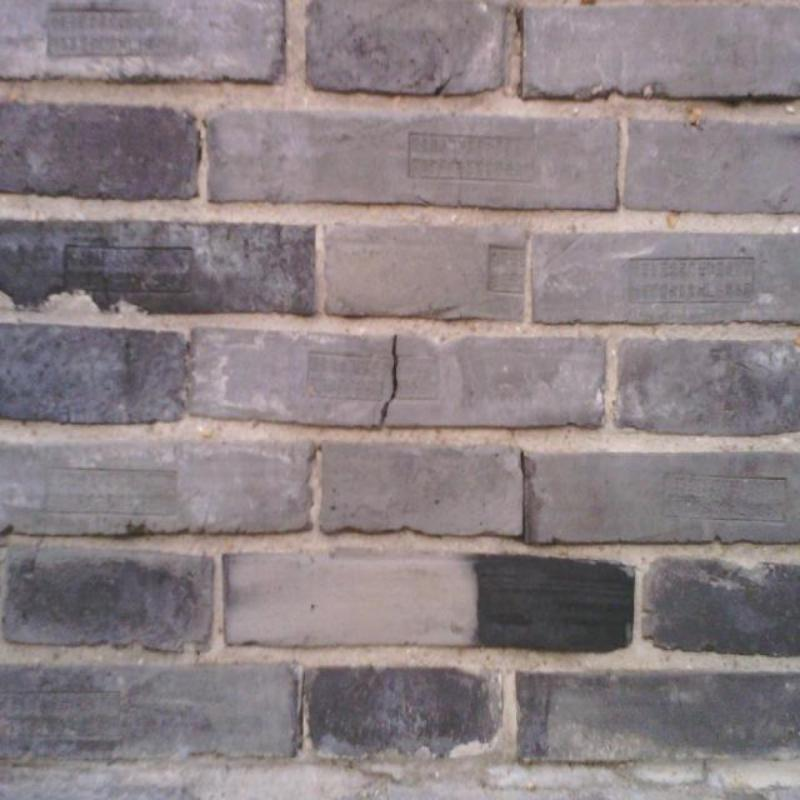pothole: (379, 333, 400, 425), (433, 75, 451, 95)
